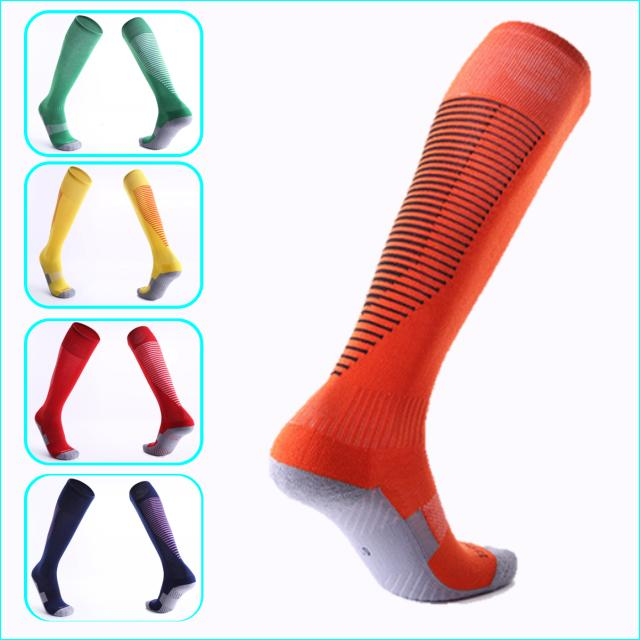sock: (268, 20, 592, 602), (120, 17, 193, 150), (34, 322, 100, 461), (128, 481, 196, 614), (37, 15, 103, 152), (30, 478, 95, 617), (126, 325, 194, 456), (123, 168, 182, 300), (38, 166, 92, 299)
